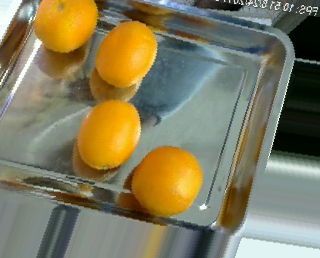Orange: (131, 144, 203, 215), (77, 99, 141, 169), (95, 18, 157, 86), (32, 1, 97, 51)
